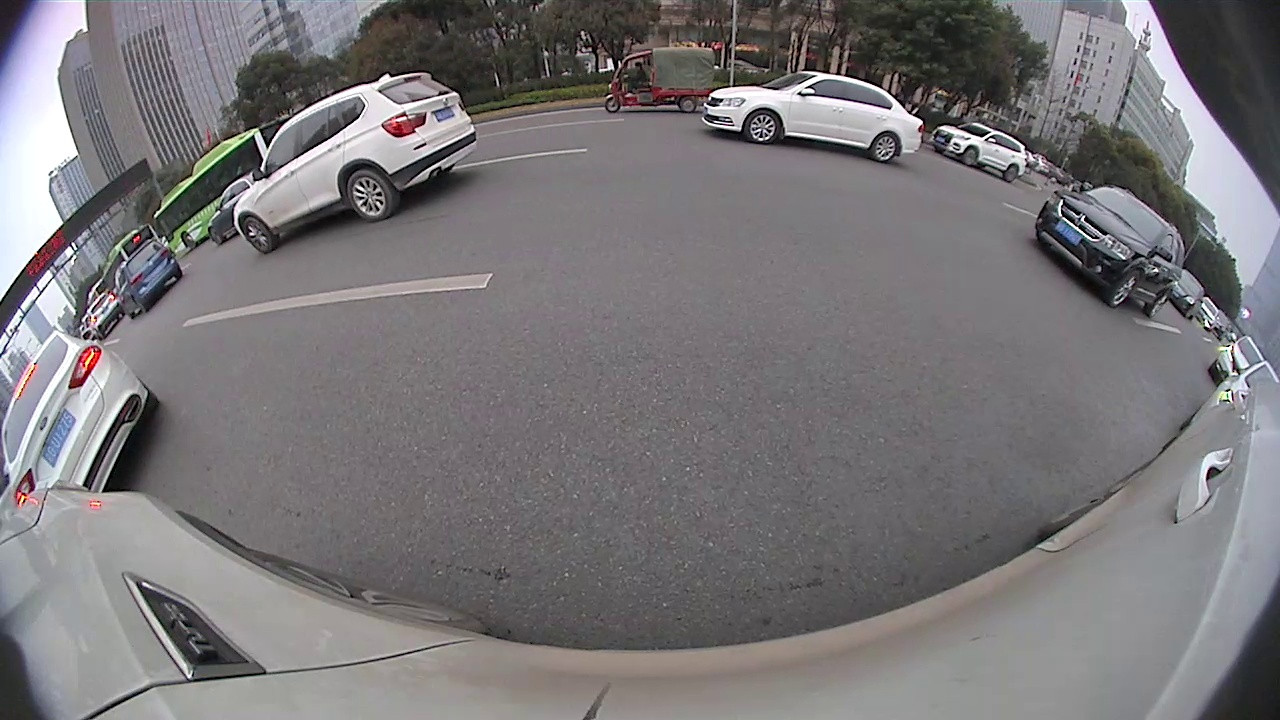bus: (149, 115, 287, 263)
car: (231, 68, 480, 256), (1, 326, 165, 509), (700, 68, 924, 167), (1050, 177, 1187, 319), (933, 118, 1033, 186), (111, 235, 184, 322)
front: (1106, 267, 1142, 312), (746, 109, 783, 147), (240, 216, 274, 256), (963, 147, 978, 167), (605, 94, 620, 113)
rear: (344, 170, 396, 223), (871, 132, 900, 164), (678, 93, 697, 114), (1003, 163, 1018, 183)
rider: (602, 43, 720, 122)
